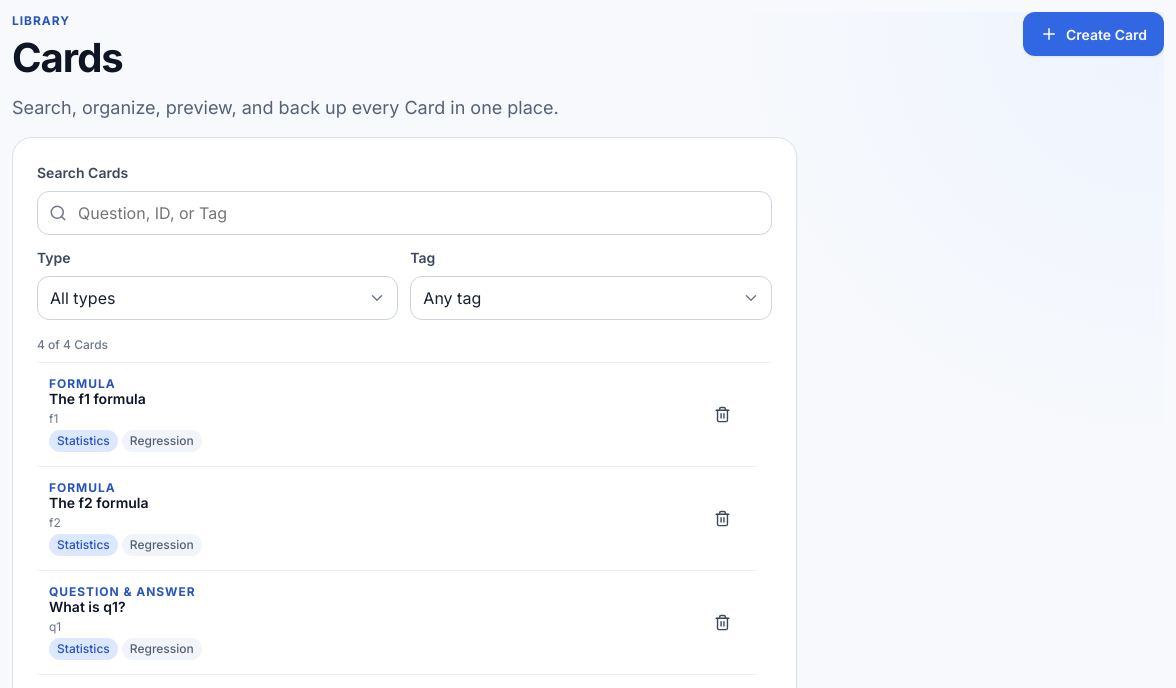
Test case: Type and Tag › search, Type and Tag together list only the Cards that match all three
Step 1. Type "1" into the search field labelled "Search Cards" → (404, 213), box [37, 191, 772, 235]
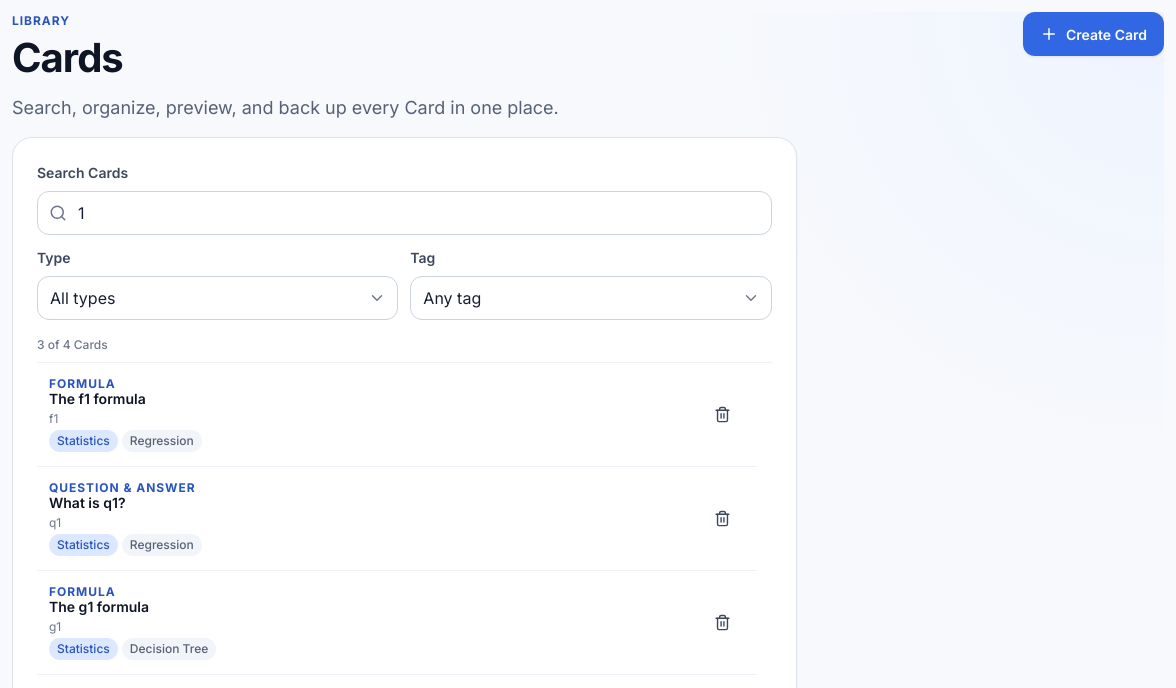
Step 2. Select "Formula" in the dropdown labelled "Type" → (218, 298), box [37, 276, 398, 320]
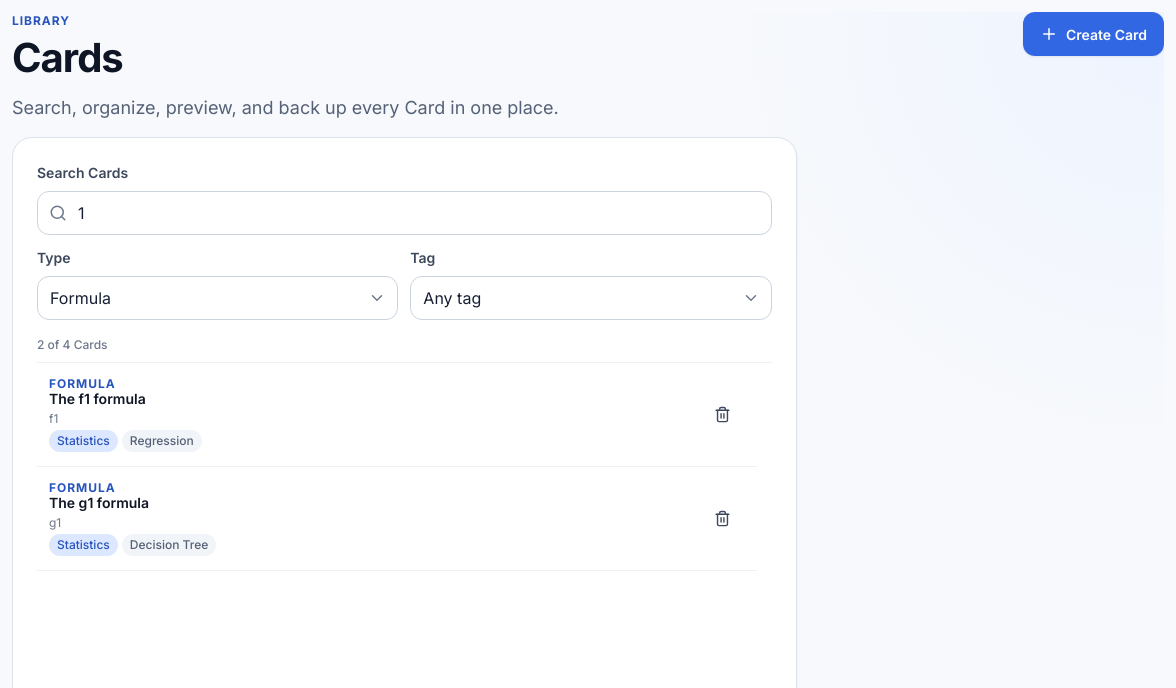
Step 3. Select "Regression" in the dropdown labelled "Tag" → (591, 298), box [410, 276, 772, 320]
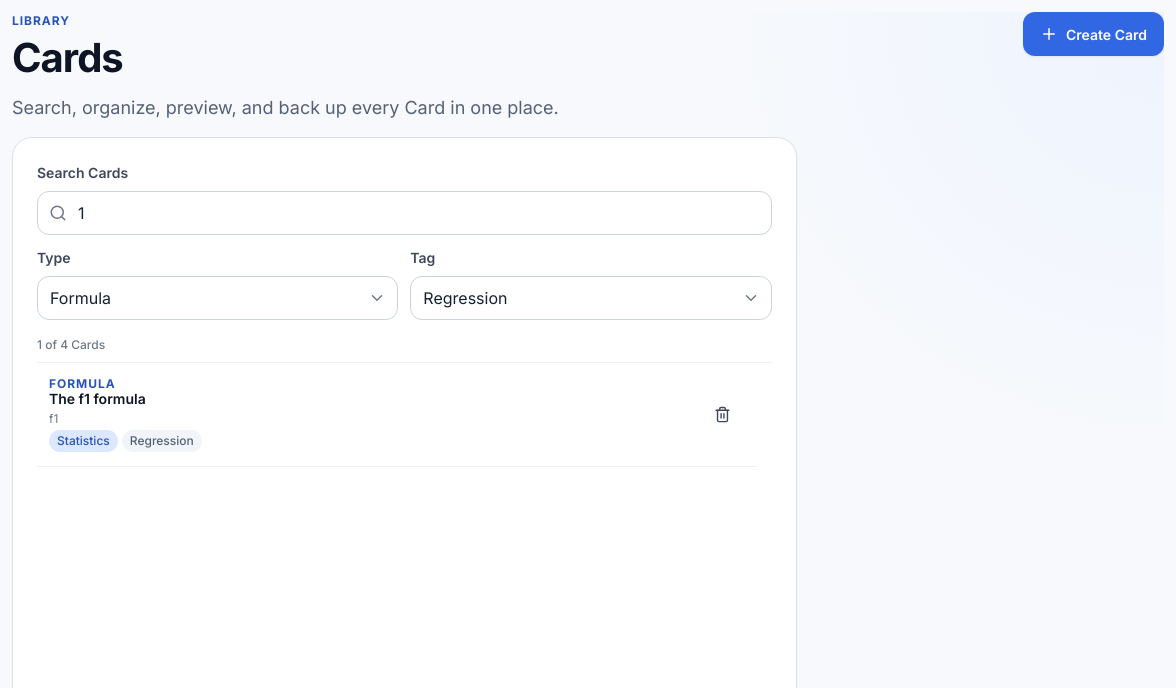
Result: the text "1 of 4 Cards" is shown at [37, 336, 105, 354]
